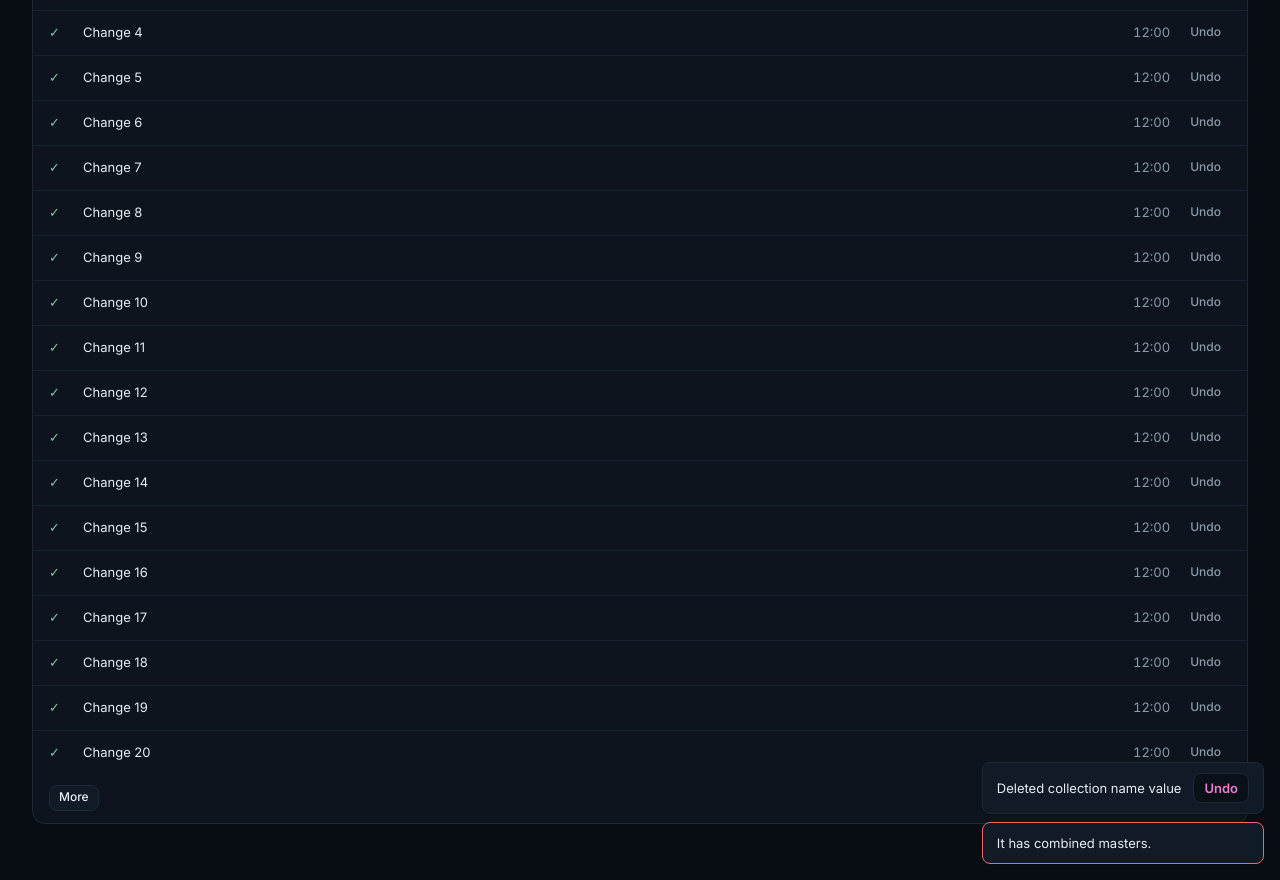
Test: your changes in Activity › shows 20, then More asks for the next page
This screenshot has width=1280, height=880.
(page scrolled)
Expected: the text "Change 20" is shown, [83,744,150,760]
Expected: the text "Change 21" is not shown
Step 1. Click the button "More" → (74, 798), box [49,784,99,810]
(page scrolled)
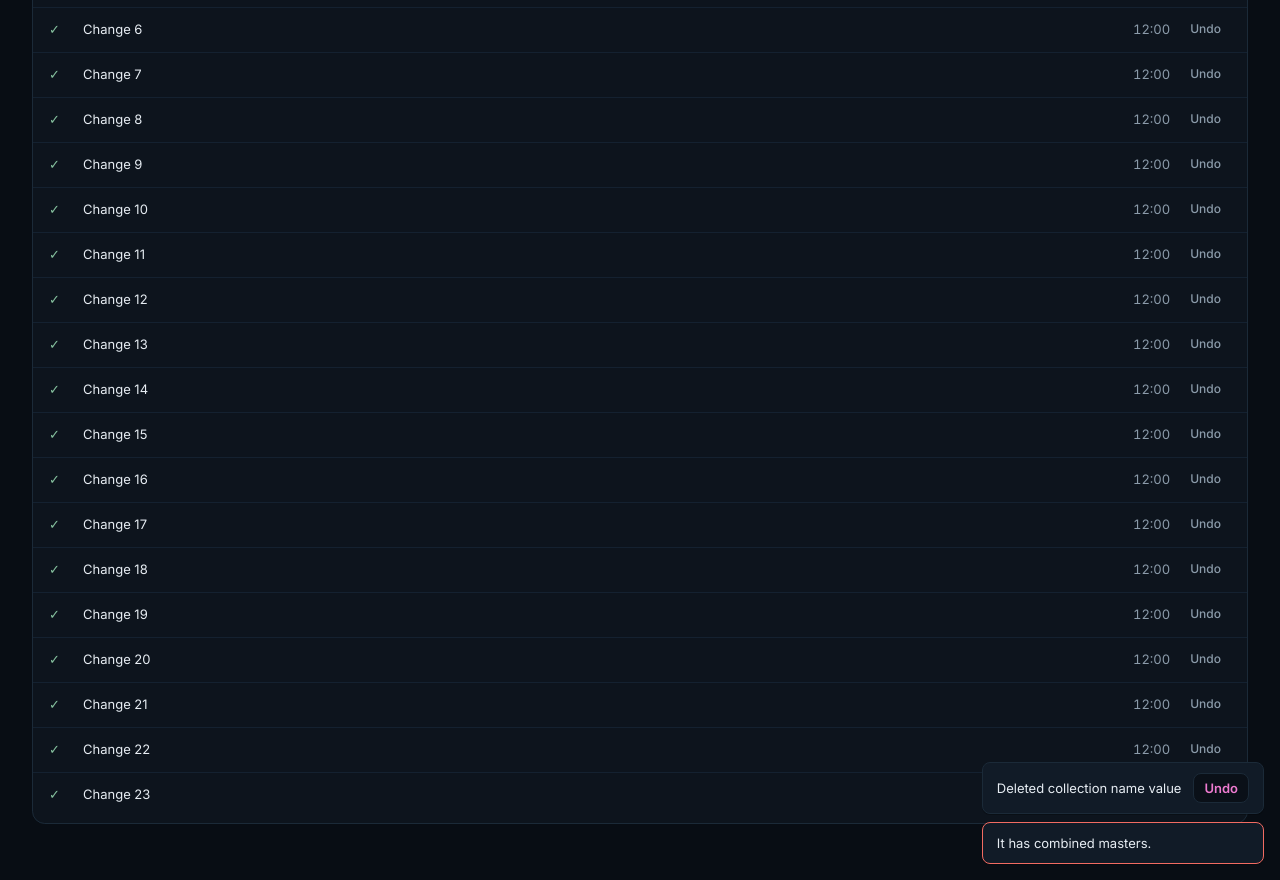
Expected: the button "More" is not shown
Now the text "Change 23" is shown, box [83,786,150,802]
